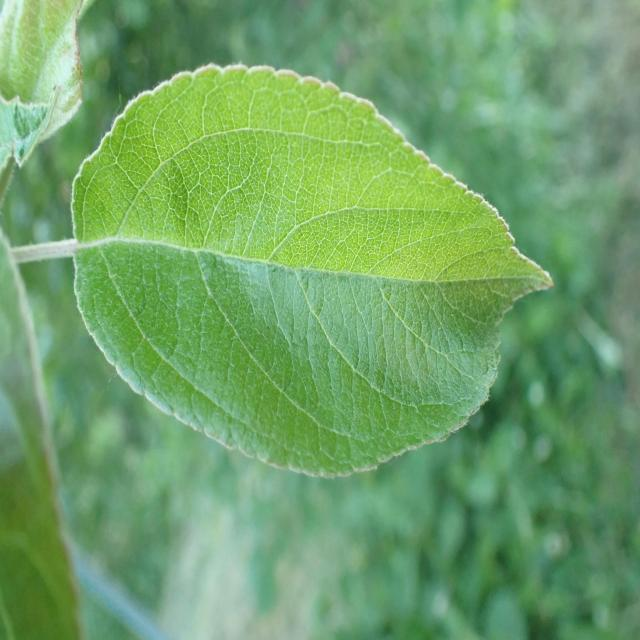healthy: (70, 63, 556, 479), (0, 0, 91, 168)
